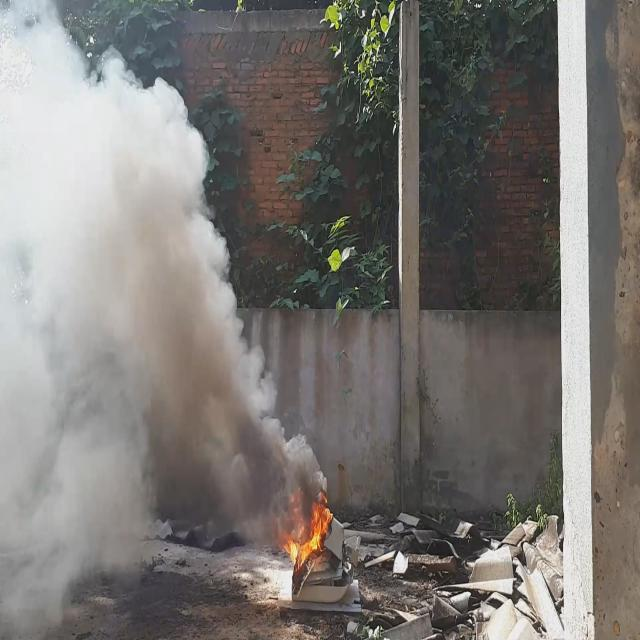Fire: (281, 480, 334, 570)
Smoke: (0, 0, 325, 640)
